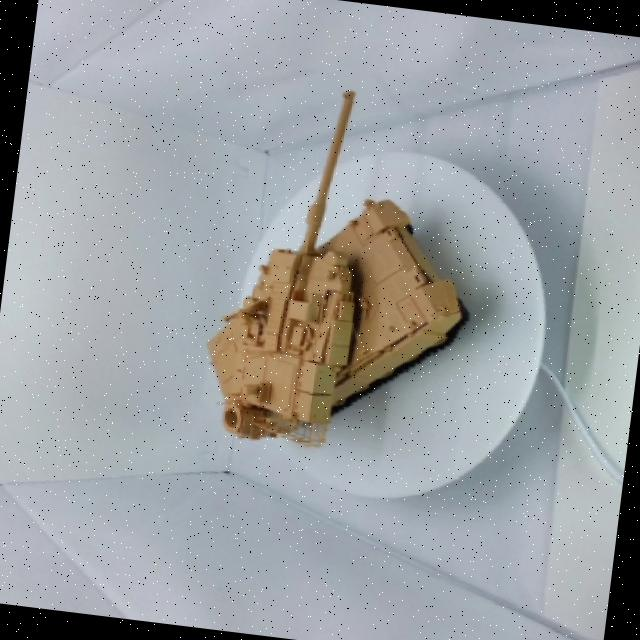korea tank: (162, 58, 519, 486)
